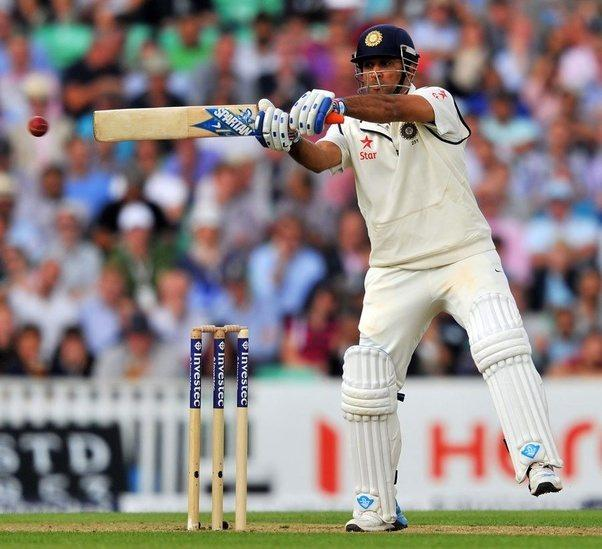batsman: (92, 25, 565, 532)
